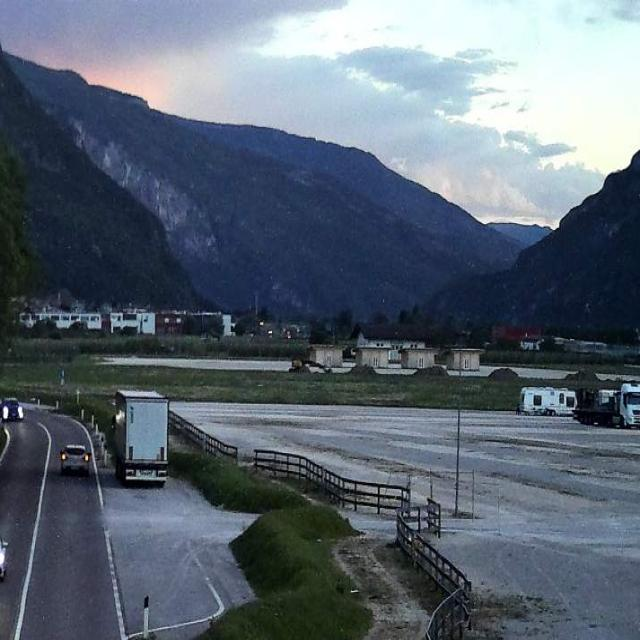car: (60, 444, 91, 476), (0, 396, 24, 420)
van: (113, 389, 169, 486), (572, 381, 640, 429)
